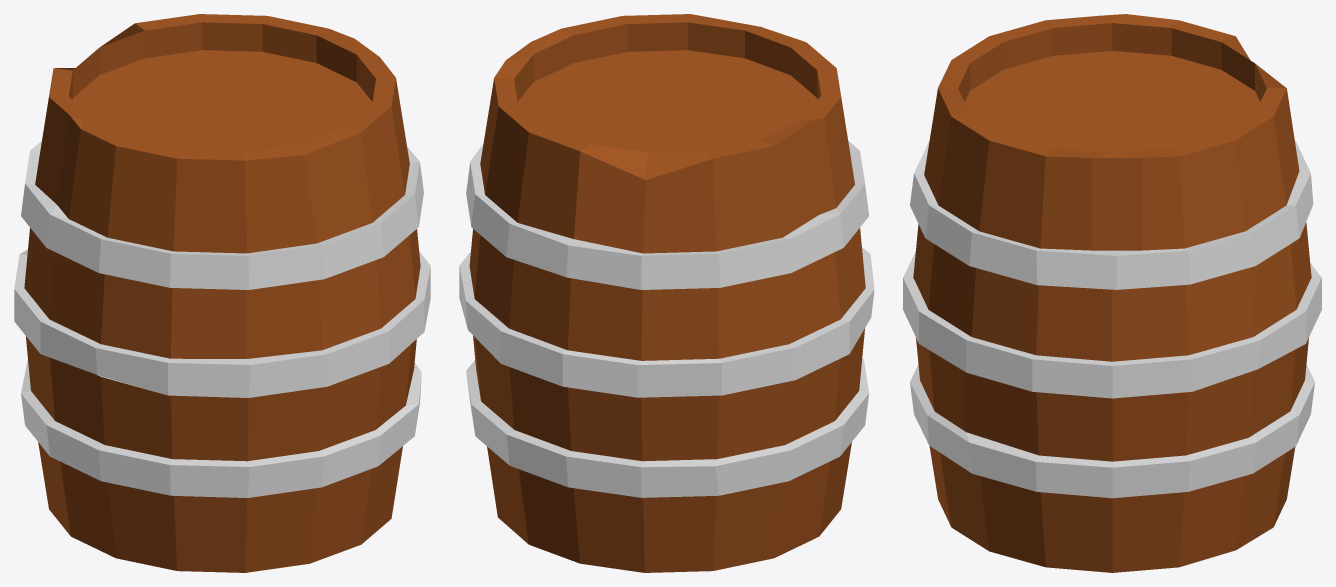
File: barrel.glb
3 views of the same model, side by side, from view 1: azimuth 30°, elevation 25°; view 2: azimuth 150°, elevation 25°; view 3: azimuth 270°, elevation 25° (orthographic).
Parts seen in each view (by area): view 1: Barrel; view 2: Barrel; view 3: Barrel.
Boxes of the visible parts, left/top/right/bottom form: Barrel: left=14, top=14, right=430, bottom=572; Barrel: left=459, top=14, right=874, bottom=572; Barrel: left=903, top=14, right=1321, bottom=572.
Bounding box in the file's own units: 2.4 × 2.62 × 2.4.
